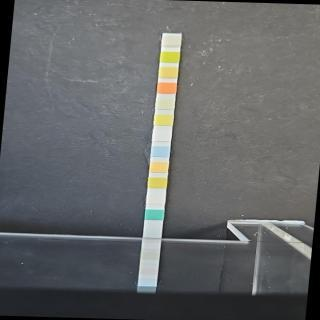mark: (158, 81, 175, 94), (160, 66, 177, 79), (148, 176, 166, 188), (150, 160, 168, 172), (152, 144, 170, 156), (156, 98, 174, 110), (160, 52, 179, 63), (153, 129, 170, 141), (163, 36, 180, 48), (148, 193, 164, 205), (156, 114, 172, 126), (146, 209, 162, 219)
